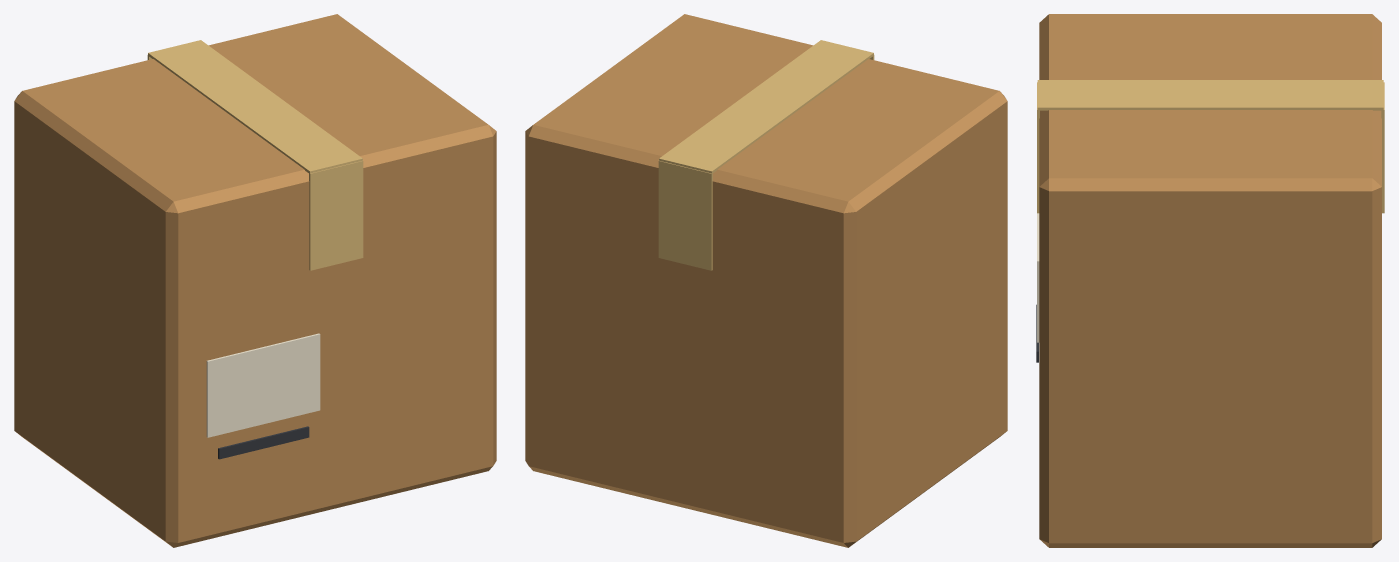
File: box_medium.glb
3 views of the same model, side by side, from view 1: azimuth 30°, elevation 25°; view 2: azimuth 150°, elevation 25°; view 3: azimuth 270°, elevation 25° (orthographic). The views are drawn at different scales.
Parts seen in each view (by area): view 1: box_medium; view 2: box_medium; view 3: box_medium.
Boxes of the visible parts, bbox=[...] form: box_medium: bbox=[14, 14, 496, 547]; box_medium: bbox=[525, 14, 1007, 547]; box_medium: bbox=[1036, 14, 1384, 547].
Bounding box in the file's own units: 0.5 × 0.503 × 0.4265.
